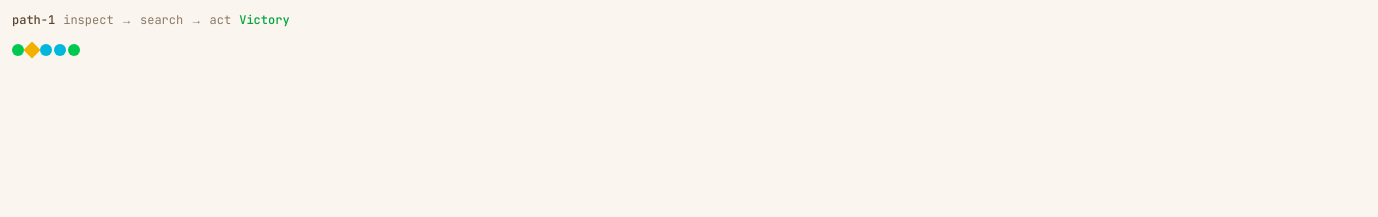
Test: RunReplay › tracks tool acquisitions from choice points
This screenshot has width=1378, height=217.
Click the button named "choice" at (32, 50), box top-left (24, 42), bottom-right (40, 58)
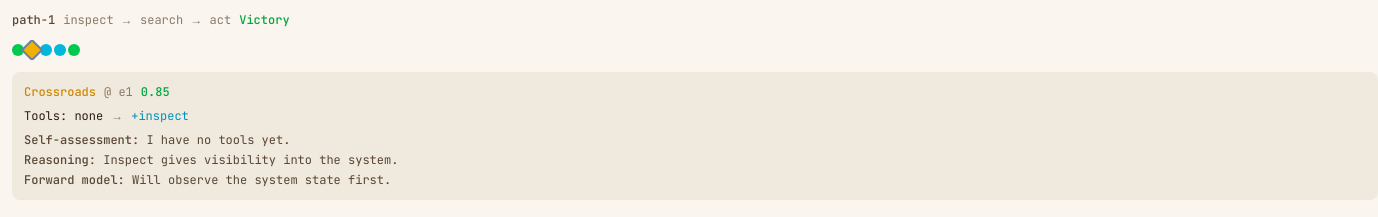
expect the text "inspect → search → act" is shown: met, box top-left (63, 12), bottom-right (231, 28)
expect the text "0.85" is shown: met, box top-left (141, 84), bottom-right (170, 100)
